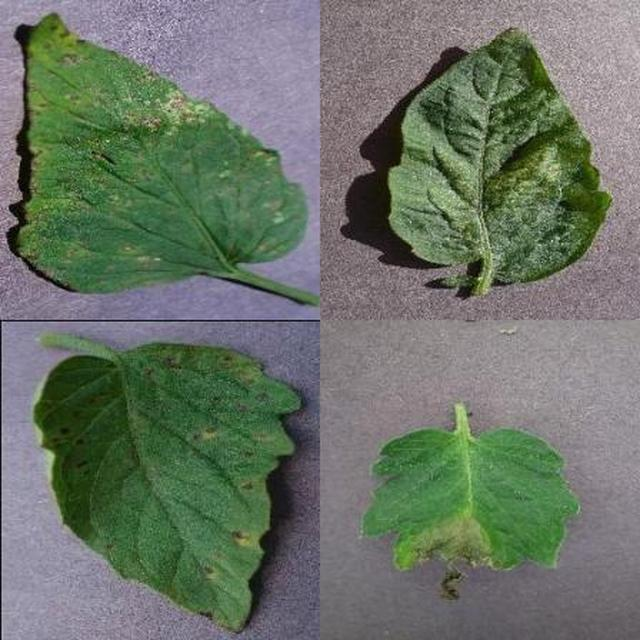Septoria Leaf: (233, 218, 640, 640)
